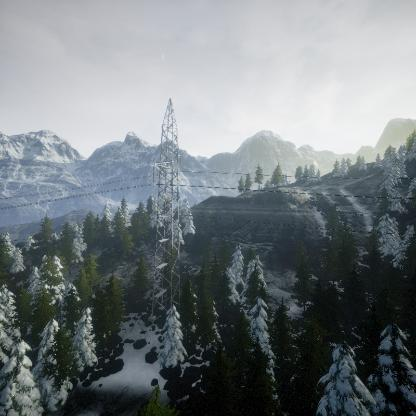tower: (150, 96, 186, 320)
